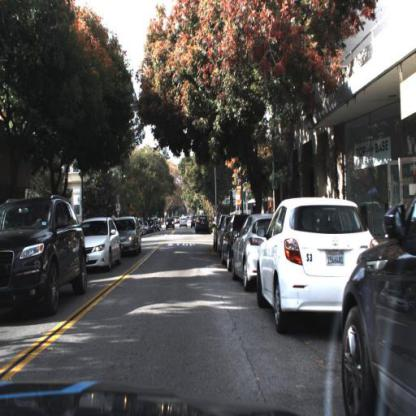car: (256, 194, 384, 338), (342, 192, 416, 416), (254, 197, 344, 343), (1, 188, 91, 319), (1, 194, 90, 316), (229, 211, 262, 294), (83, 213, 121, 279), (79, 216, 120, 272), (116, 213, 144, 259)
